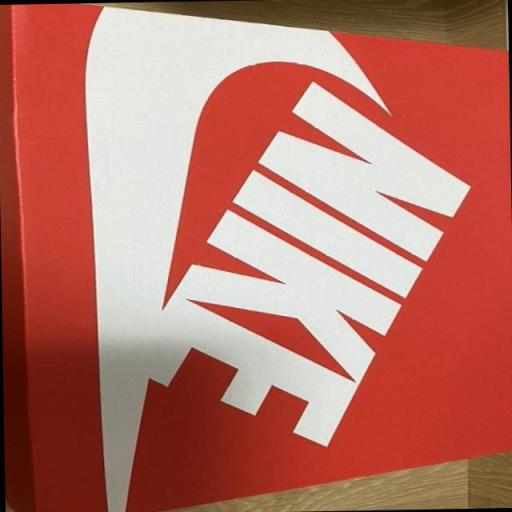Nike: (130, 84, 488, 453)
